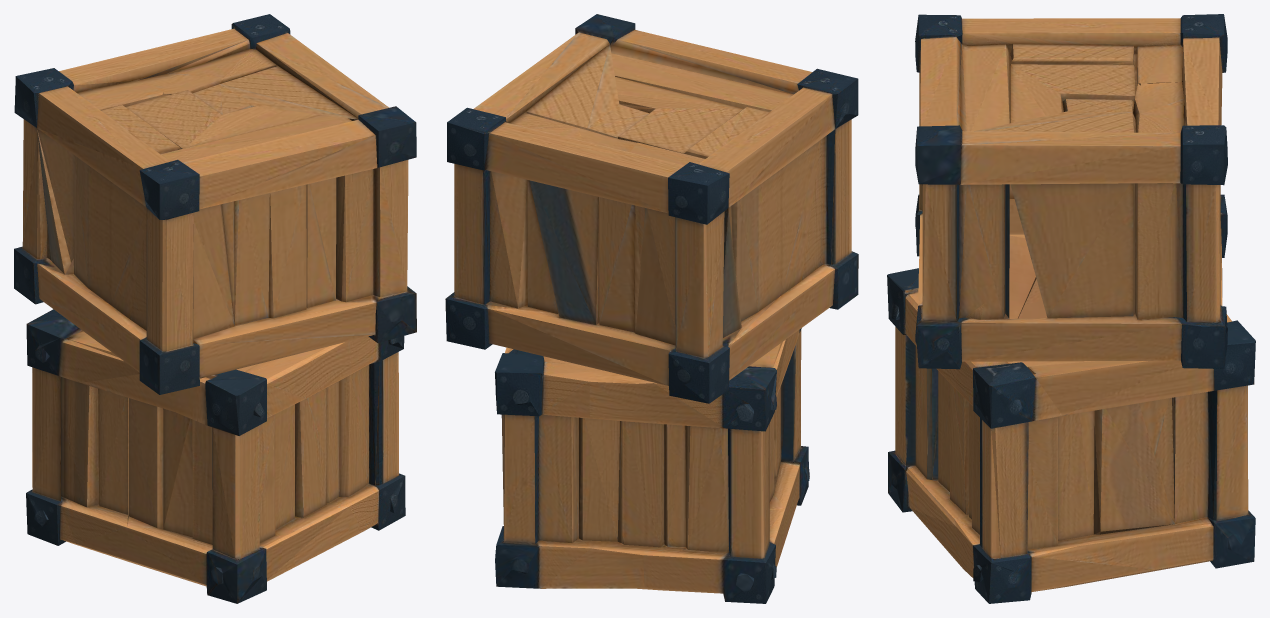
File: crates.glb
The picture shows the model from 3 angles, left to right: view 1: azimuth 30°, elevation 25°; view 2: azimuth 150°, elevation 25°; view 3: azimuth 270°, elevation 25°; orthographic projection. The views are drawn at different scales.
Bounding box in the file's own units: 1.4 × 1.9 × 1.41.
Materials: 1 (1 with a texture image).
